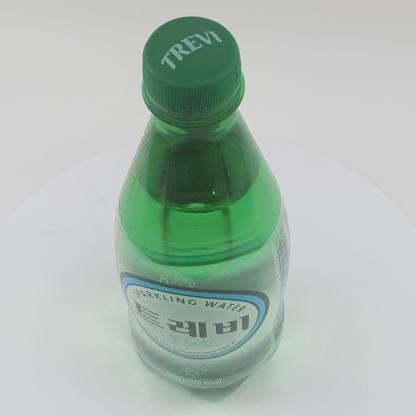---------PET-500ML: (113, 16, 289, 401)
